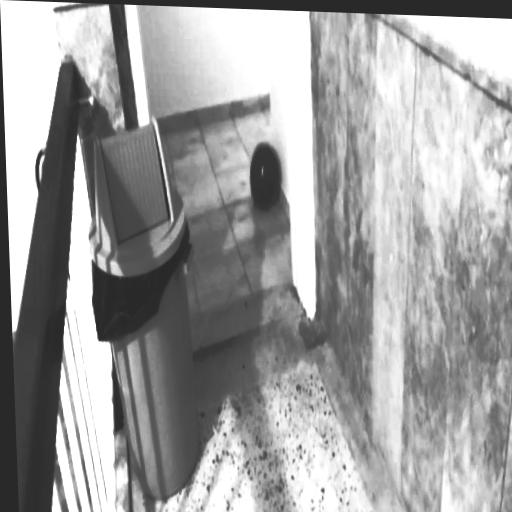balloon: (249, 141, 282, 209)
